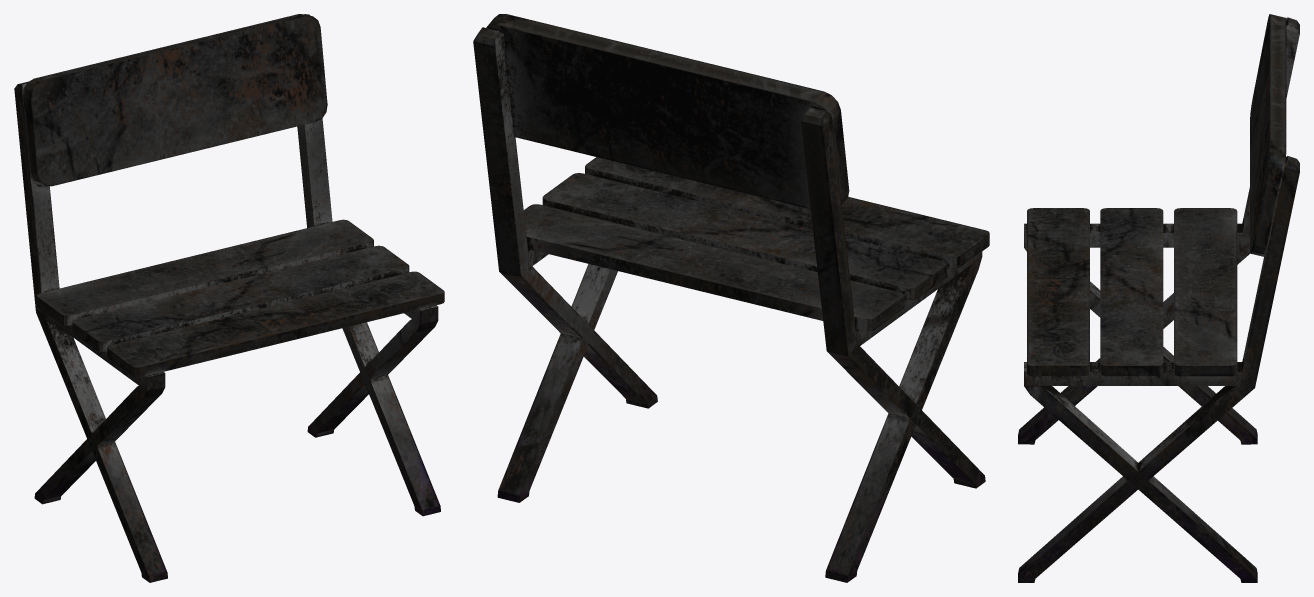
Rendered from Ext_Silla_V3.glb.
3 views of the same model, side by side, from view 1: azimuth 30°, elevation 25°; view 2: azimuth 150°, elevation 25°; view 3: azimuth 270°, elevation 25° (orthographic). The views are drawn at different scales.
Visible parts, largest first — view 1: Ext_Silla_V3; view 2: Ext_Silla_V3; view 3: Ext_Silla_V3.
Part boxes in pixels (x1,y1,x2,y2): Ext_Silla_V3: (14, 14, 444, 582); Ext_Silla_V3: (473, 14, 989, 582); Ext_Silla_V3: (1018, 14, 1299, 582).
Bounding box in the file's own units: 0.7894 × 0.9944 × 0.5955.
1 material, 1 textured.
